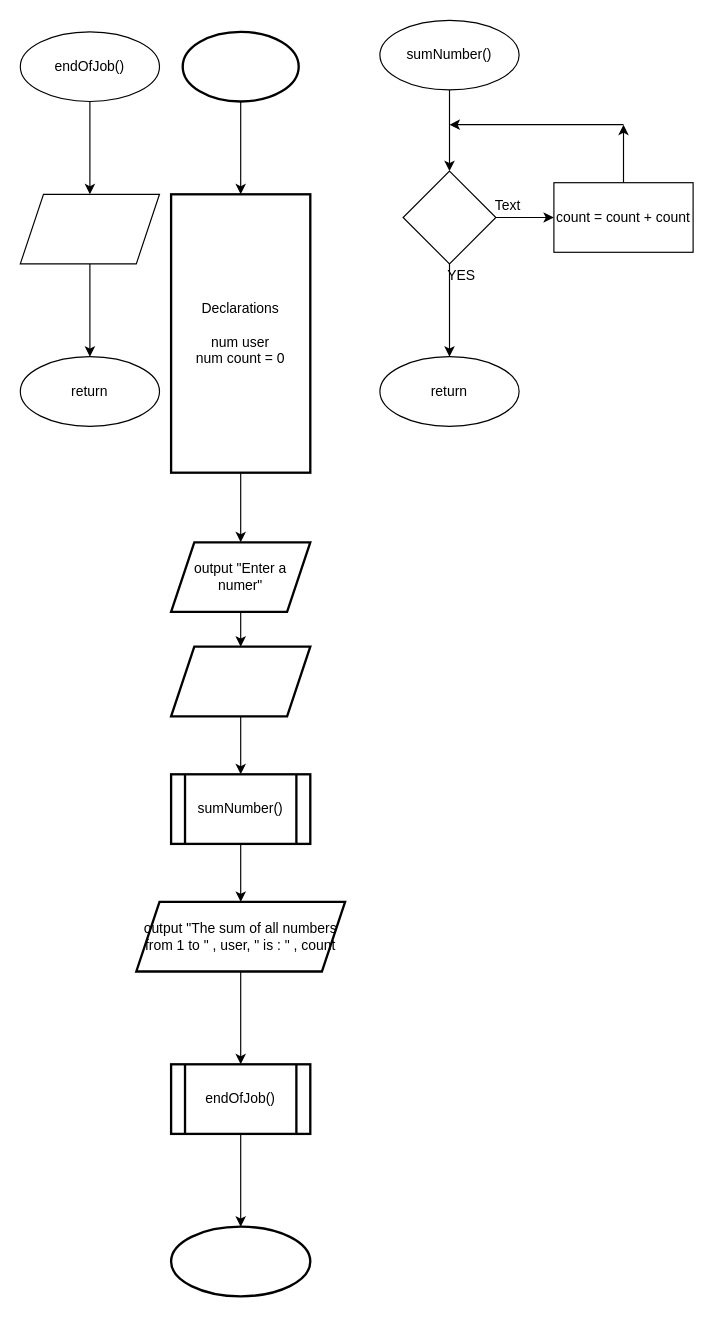
Image size: 713x1318. Some labels were removed from this diagram. The box of each missing label's shape, as (x1, y1, x2, y2) in pixels:
input user: (169, 645, 311, 717)
output "End of Job": (19, 193, 160, 264)
start: (181, 30, 299, 102)
stop: (169, 1225, 311, 1297)
user == count: (402, 170, 496, 264)
